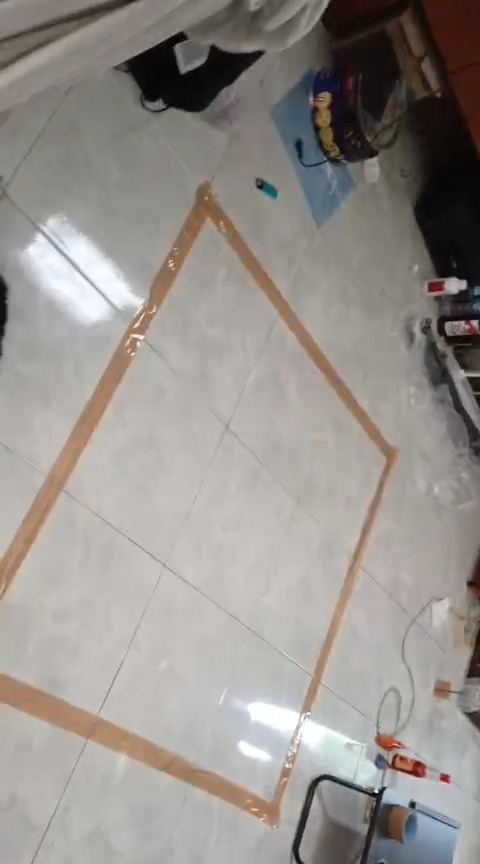floor marking: (2, 183, 395, 824)
